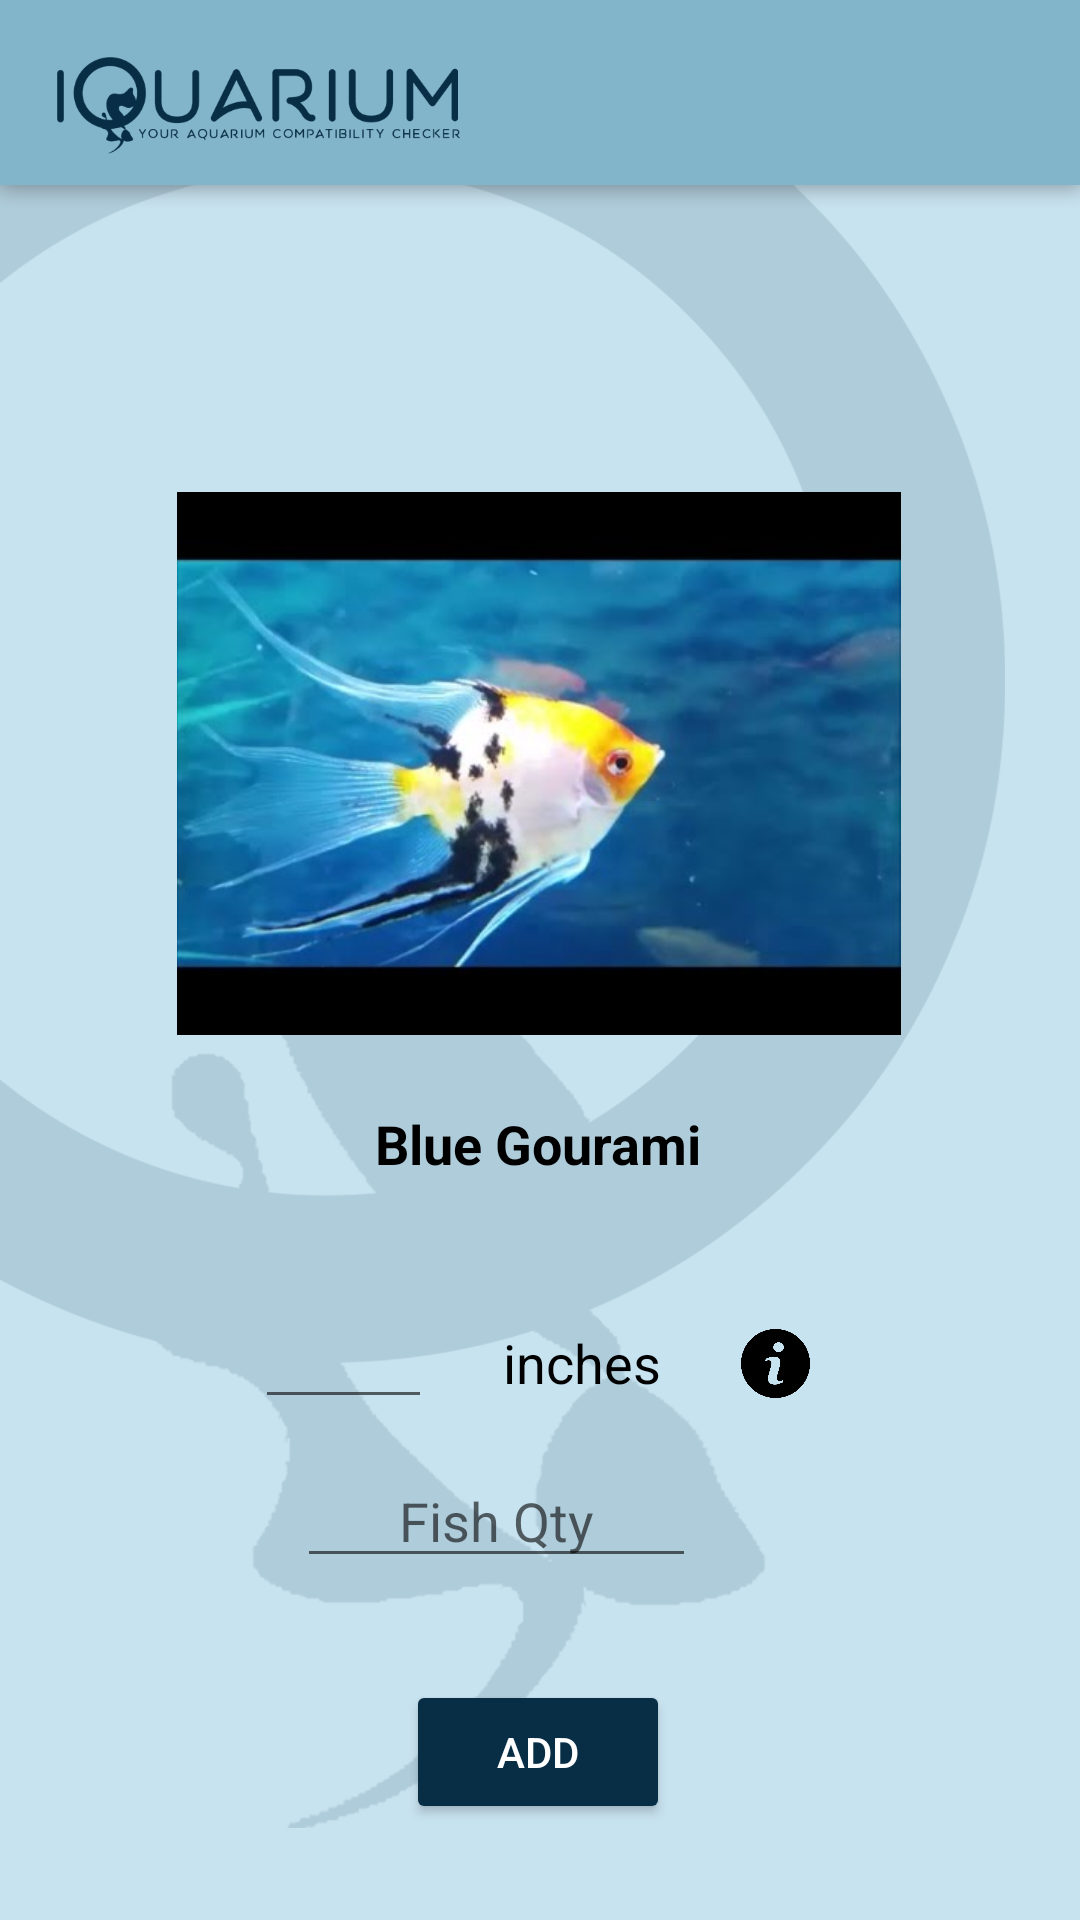

Icons on this 1080×1920 Android screen, each with the point to tap as [x,y]:
info: [775,1363]
